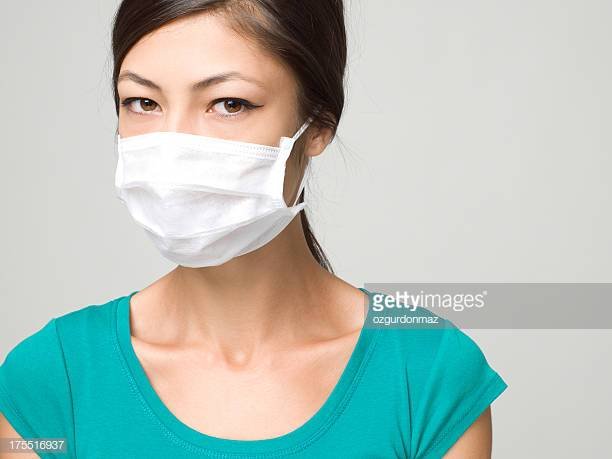mask: (114, 135, 293, 251)
